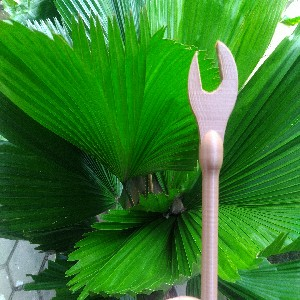spanner: (187, 40, 239, 300)
